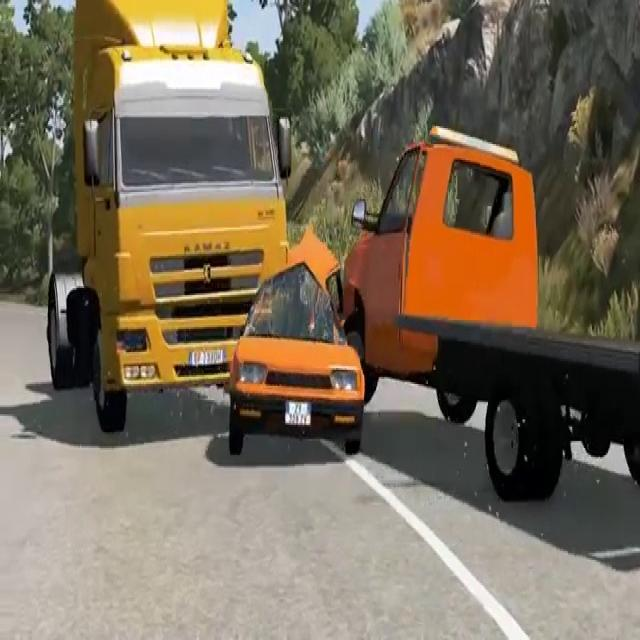severe: (36, 0, 640, 508)
